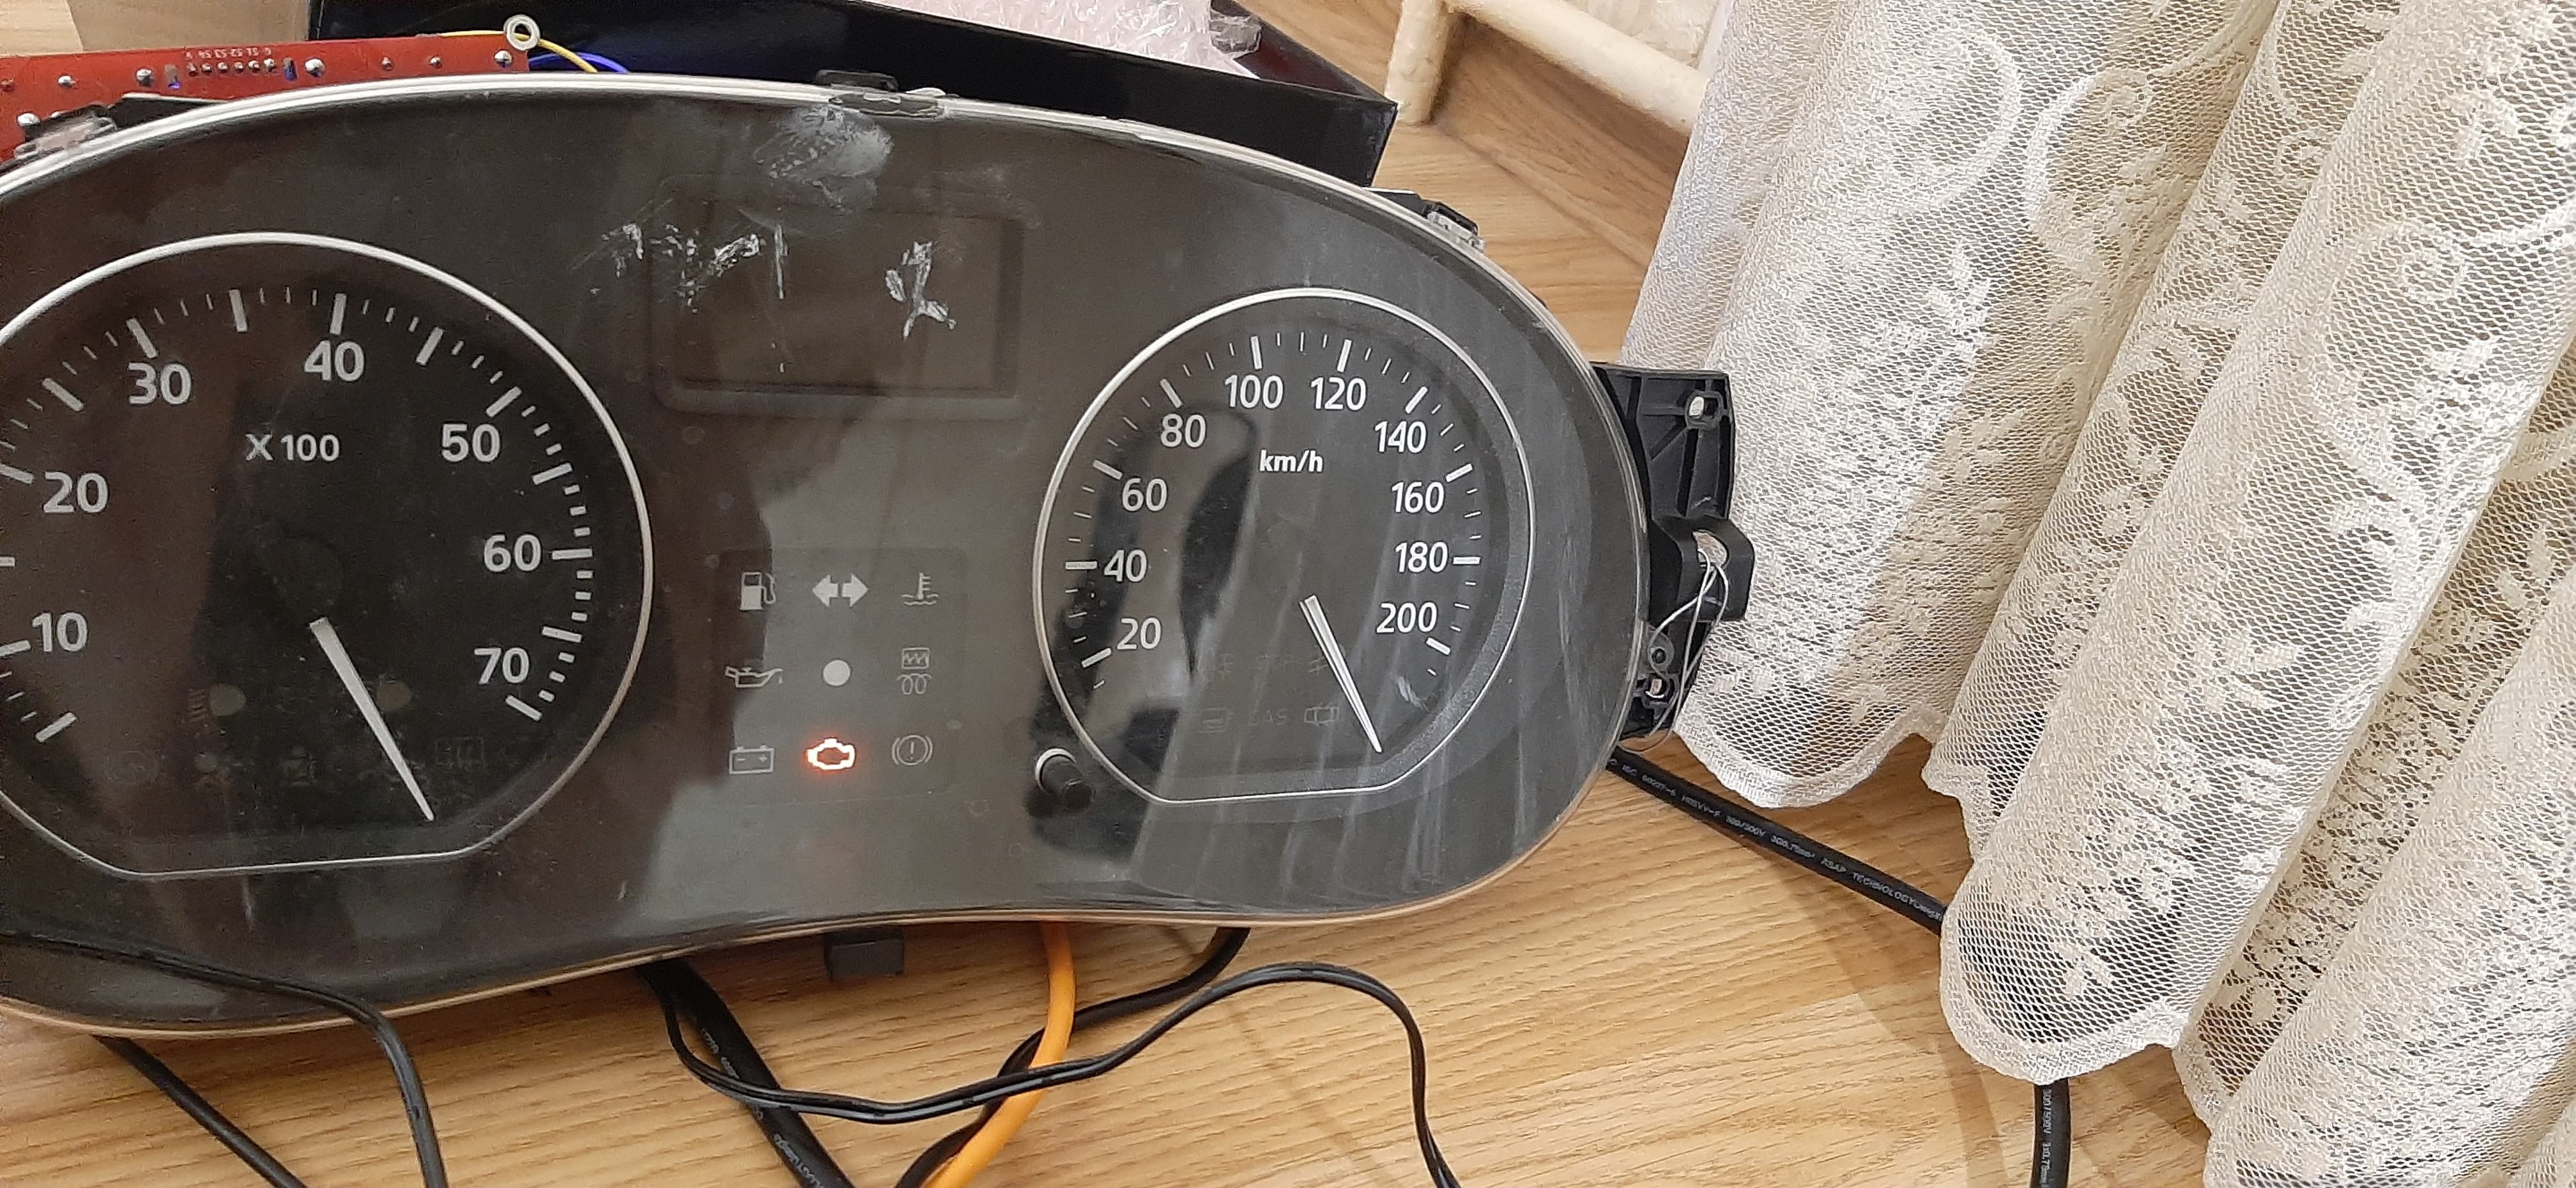engine16: (805, 736, 859, 772)
